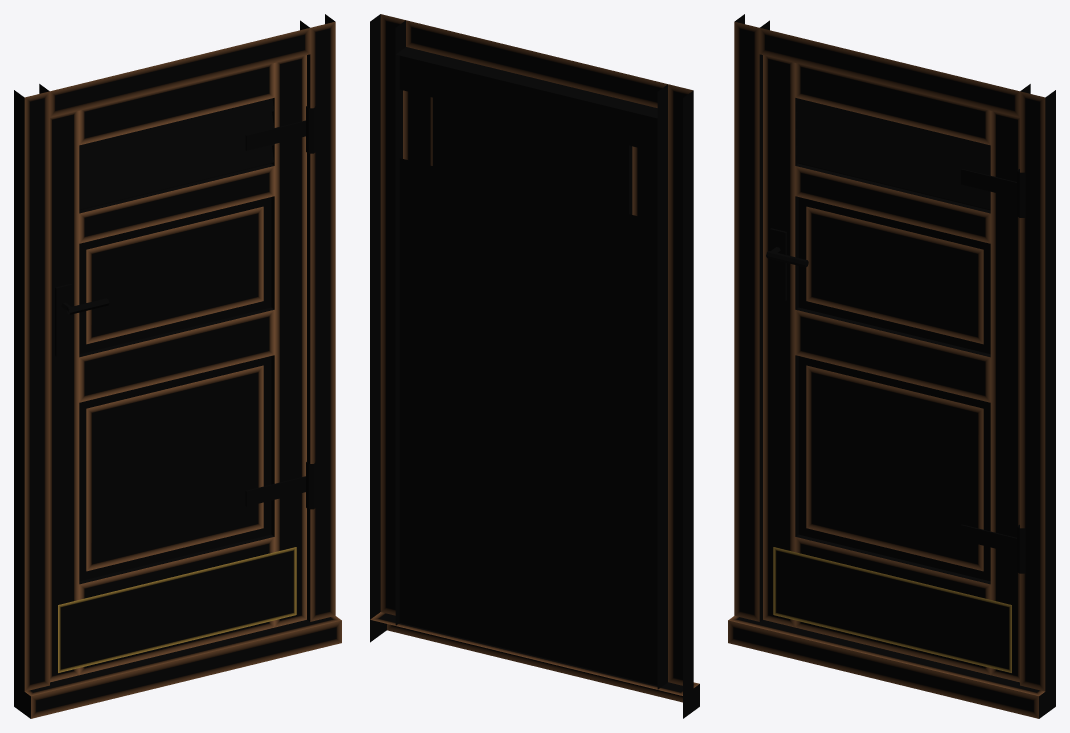
Rendered from break_door.glb.
The picture shows the model from 3 angles, left to right: view 1: azimuth 30°, elevation 25°; view 2: azimuth 150°, elevation 25°; view 3: azimuth 330°, elevation 25°; orthographic projection.
Visible parts, largest first — view 1: teak, frame, brass, dark; view 2: teak, frame, dark; view 3: teak, frame, brass, dark.
Part boxes in pixels (x1,y1,x2,y2): teak: (50, 55, 306, 682); frame: (14, 14, 341, 718); brass: (55, 284, 296, 672); dark: (62, 105, 315, 509); teak: (399, 55, 657, 685); frame: (370, 14, 699, 718); dark: (432, 97, 628, 213); teak: (763, 55, 1019, 682); frame: (728, 14, 1055, 718); brass: (766, 228, 1011, 672); dark: (776, 163, 1025, 573).
Size of the model in its own units: 0.86 by 1.63 by 0.084.
